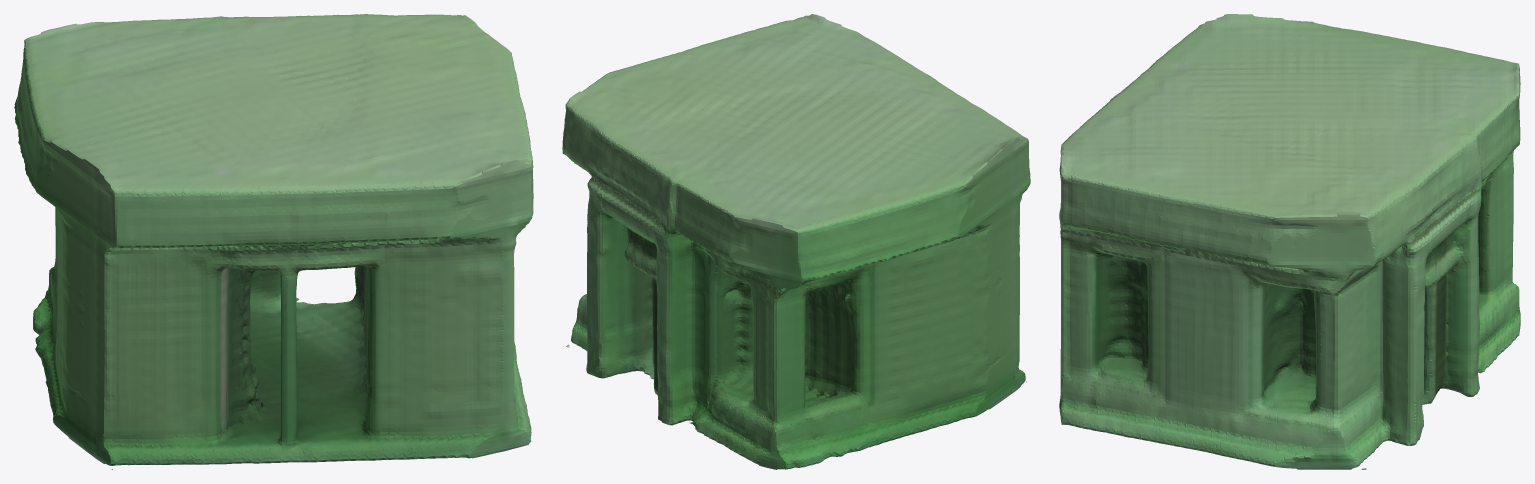
The model's file is Branch.glb.
3 renders of one model, left to right at view 1: azimuth 30°, elevation 25°; view 2: azimuth 150°, elevation 25°; view 3: azimuth 270°, elevation 25°, orthographic. The views are drawn at different scales.
Visible parts, largest first — view 1: world; view 2: world; view 3: world.
Part boxes in pixels (x1,y1,x2,y2): world: [14, 14, 533, 469]; world: [562, 14, 1030, 469]; world: [1059, 14, 1520, 469].
Size of the model in its own units: 1.99 by 1.25 by 1.99.
